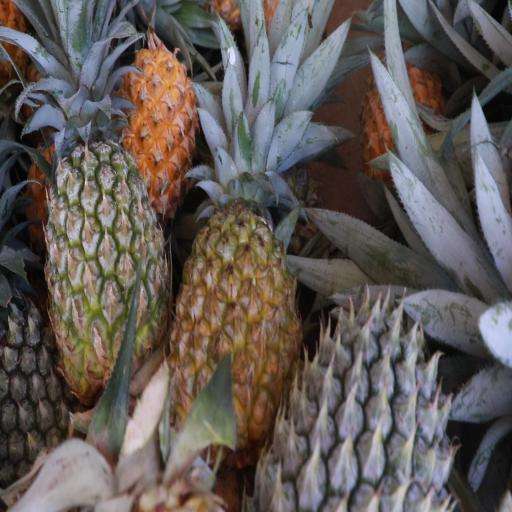------------------------------: (36, 128, 165, 386)
Pineapple - v8 v1: (173, 154, 299, 445), (68, 29, 197, 184), (359, 57, 442, 170)
